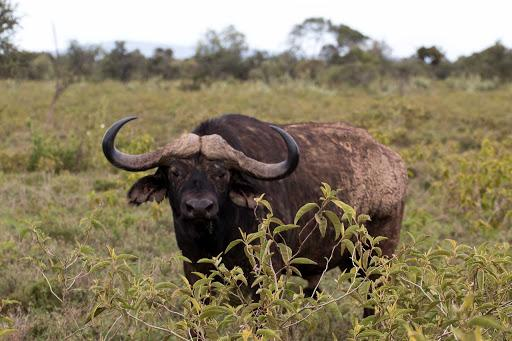Buffalo: (78, 71, 458, 321)
